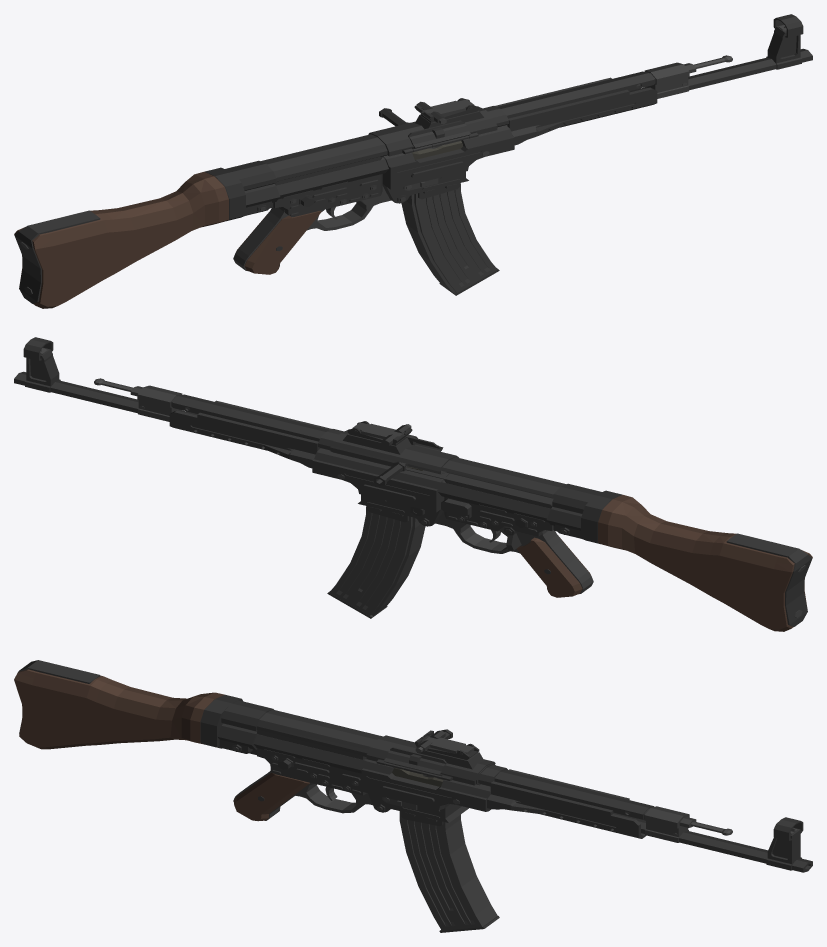
The model's file is stg44.glb.
The picture shows the model from 3 angles, top to bottom: view 1: azimuth 30°, elevation 25°; view 2: azimuth 150°, elevation 25°; view 3: azimuth 330°, elevation 25°; orthographic projection.
Parts seen in each view (by area): view 1: body_mesh, mag_mesh, irons_mesh; view 2: body_mesh, mag_mesh, irons_mesh; view 3: body_mesh, mag_mesh, irons_mesh.
Part boxes in pixels (<box>): body_mesh: <box>14,14,812,308</box>; mag_mesh: <box>401,183,499,295</box>; irons_mesh: <box>414,98,479,130</box>; body_mesh: <box>14,337,812,631</box>; mag_mesh: <box>327,506,425,618</box>; irons_mesh: <box>347,421,415,446</box>; body_mesh: <box>14,660,812,872</box>; mag_mesh: <box>399,811,499,932</box>; irons_mesh: <box>411,730,479,760</box>.
Size of the model in its own units: 0.94 by 0.2162 by 0.0986.
